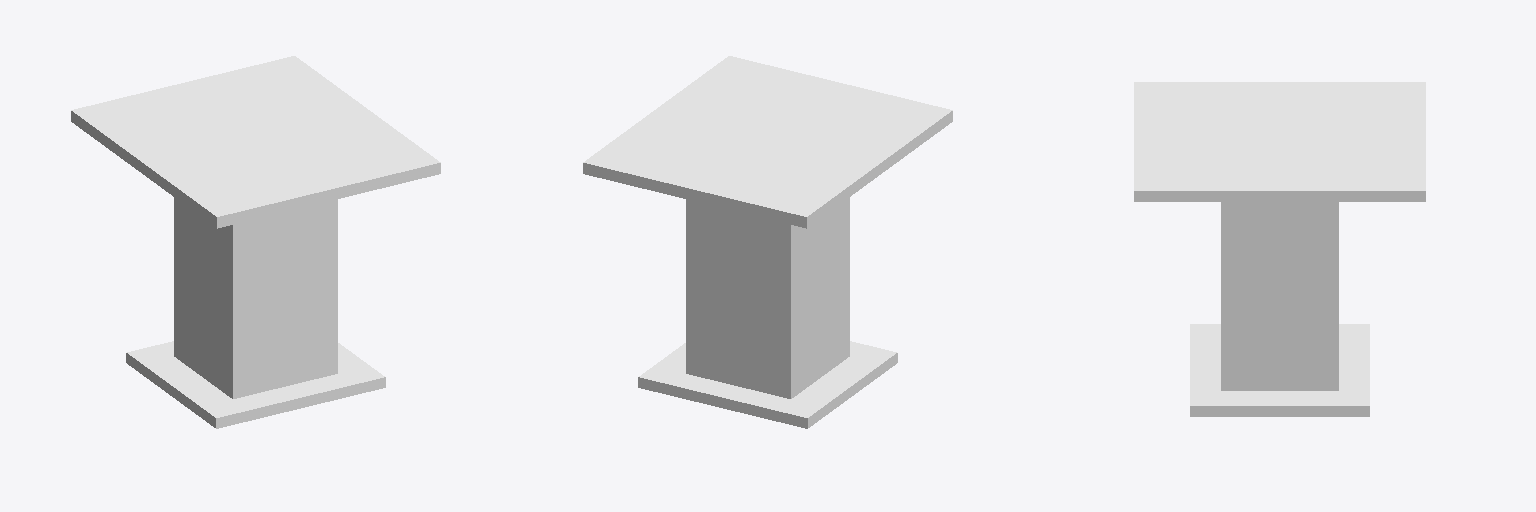
The model's file is studio_desk1.obj.
3 views of the same model, side by side, from view 1: azimuth 30°, elevation 25°; view 2: azimuth 150°, elevation 25°; view 3: azimuth 270°, elevation 25° (orthographic).
Parts seen in each view (by area): view 1: Box001; view 2: Box001; view 3: Box001.
Part boxes in pixels (left/top/right/bottom): Box001: left=71, top=56, right=440, bottom=428; Box001: left=583, top=56, right=952, bottom=428; Box001: left=1134, top=82, right=1425, bottom=416.
Size of the model in its own units: 1.01 by 1.03 by 1.15.